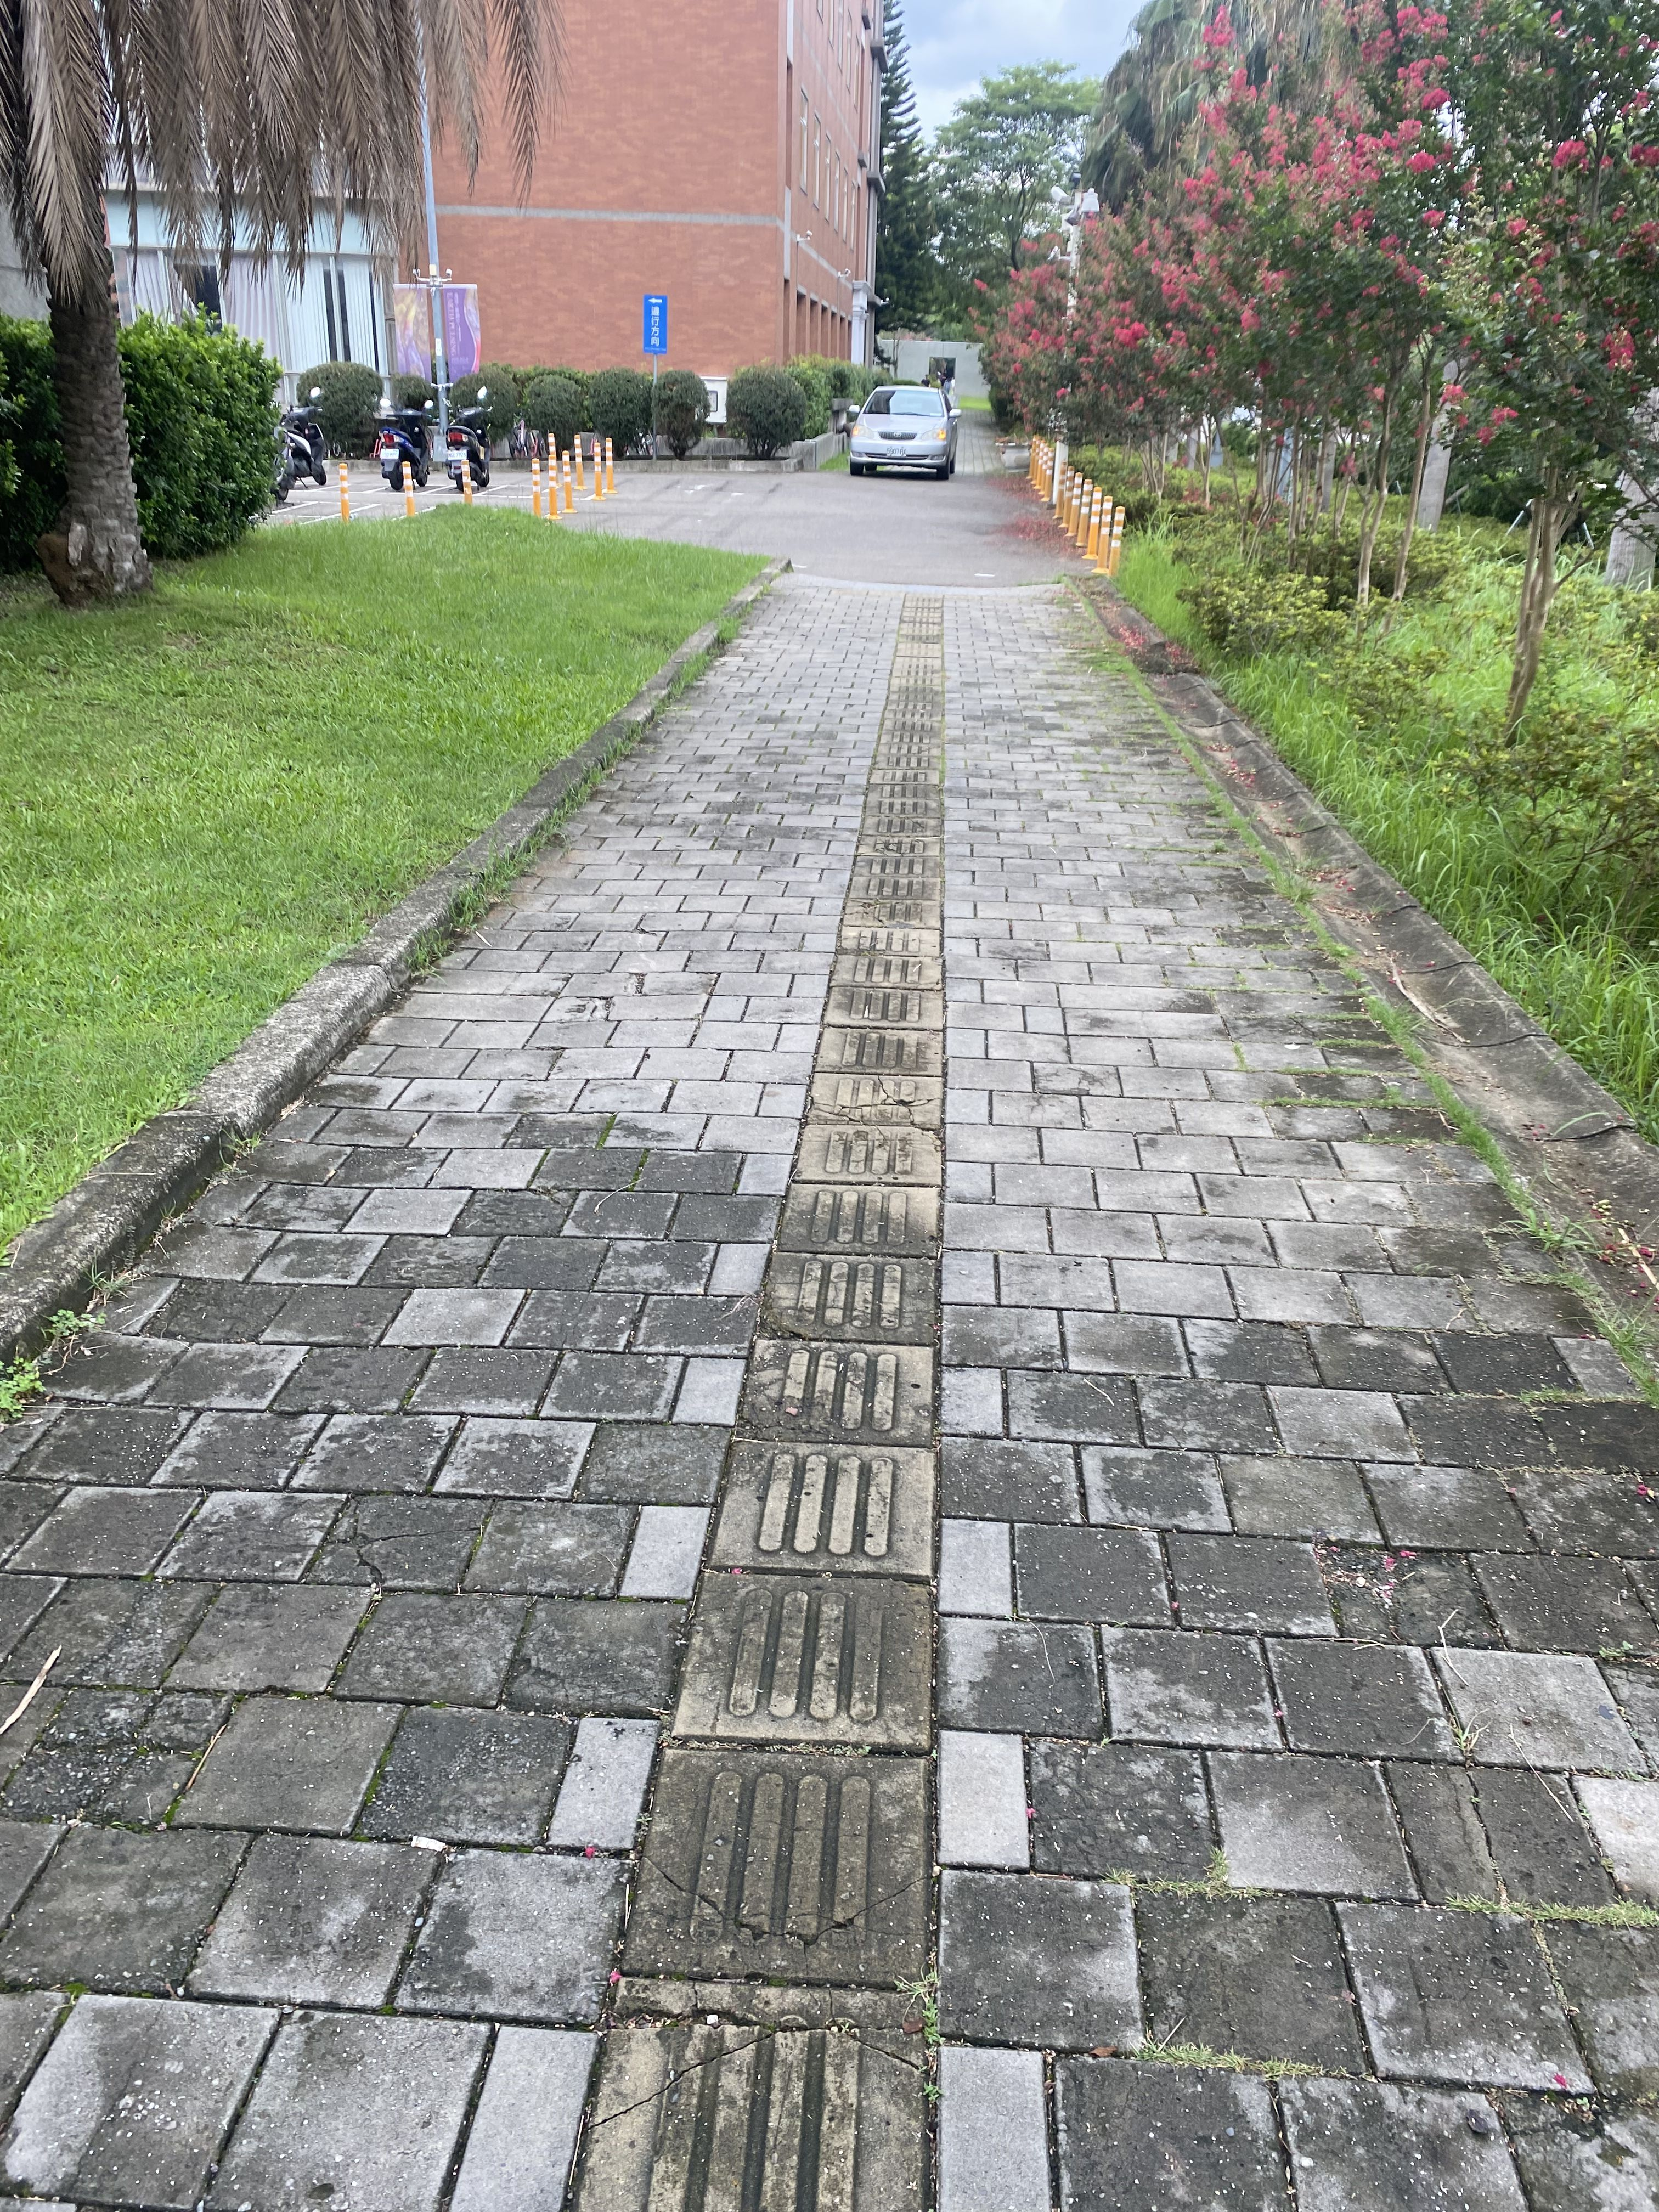0: (14, 796, 1659, 2212)
sidewalk: (626, 564, 1337, 1635)
